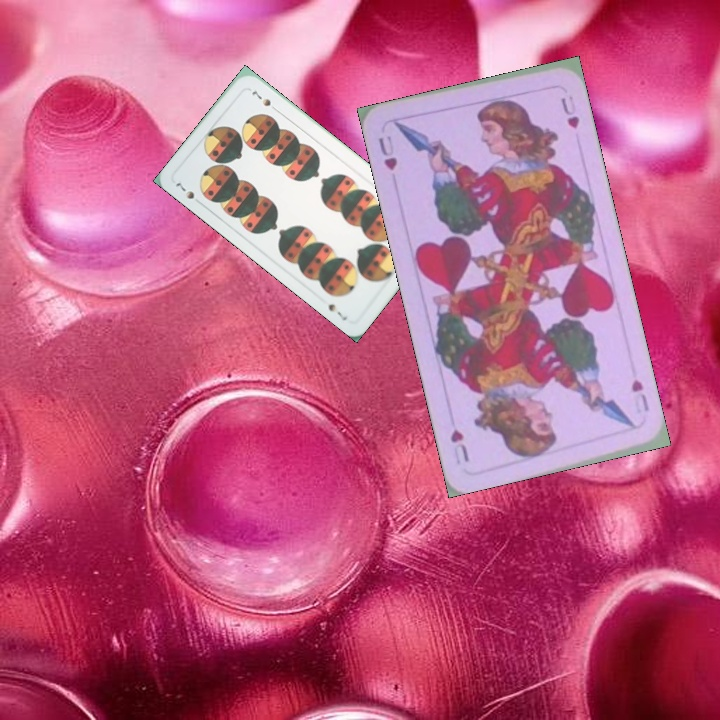HU: (374, 131, 400, 173), (627, 375, 652, 414)
S7: (171, 178, 197, 202)
